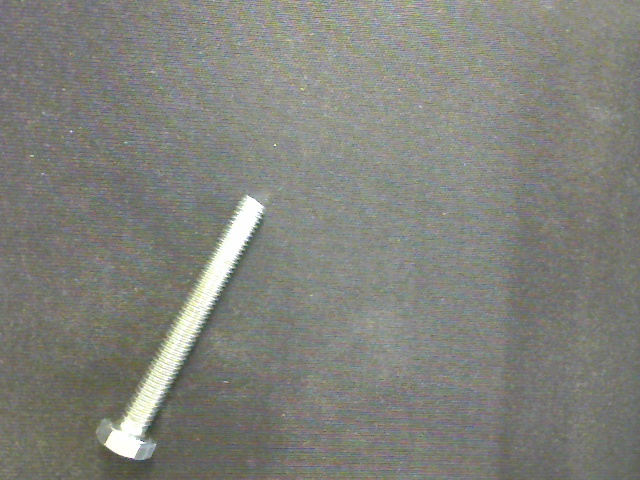Screw: (96, 195, 266, 461)
